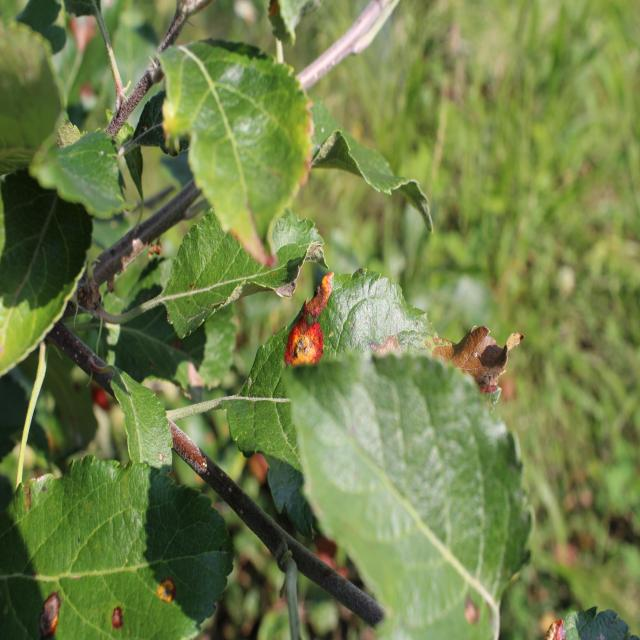Rust: (274, 308, 365, 388), (444, 569, 494, 640), (32, 577, 74, 640), (151, 553, 184, 615), (101, 578, 136, 630)
